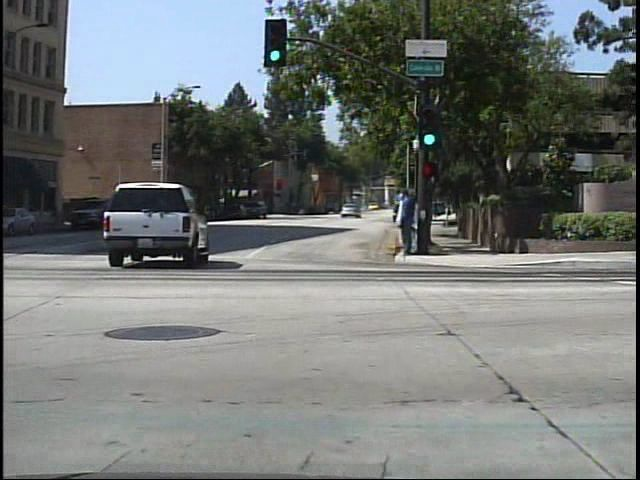person: (396, 185, 418, 256), (394, 191, 413, 256), (295, 201, 307, 216)
